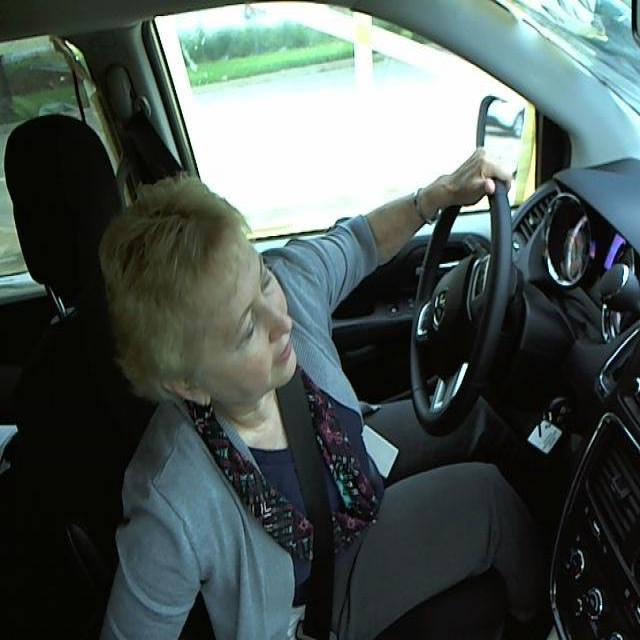seatbelt: (269, 385, 353, 636)
